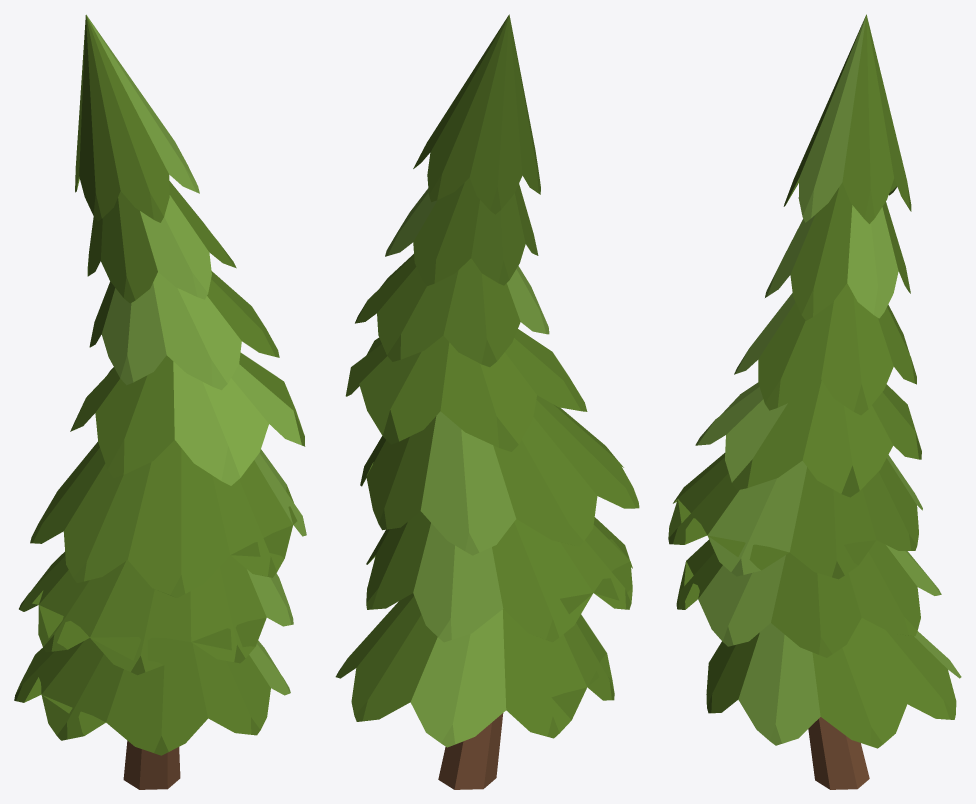
File: intro-tree-c.glb
The picture shows the model from 3 angles, left to right: view 1: azimuth 30°, elevation 25°; view 2: azimuth 150°, elevation 25°; view 3: azimuth 270°, elevation 25°; orthographic projection. The views are drawn at different scales.
Visible parts, largest first — view 1: Tree8; view 2: Tree8; view 3: Tree8.
Boxes of the visible parts, x1=… form: Tree8: x1=14, y1=14, x2=306, y2=789; Tree8: x1=335, y1=14, x2=639, y2=789; Tree8: x1=668, y1=14, x2=961, y2=789.
Bounding box in the file's own units: 1.45 × 4.29 × 1.54.
